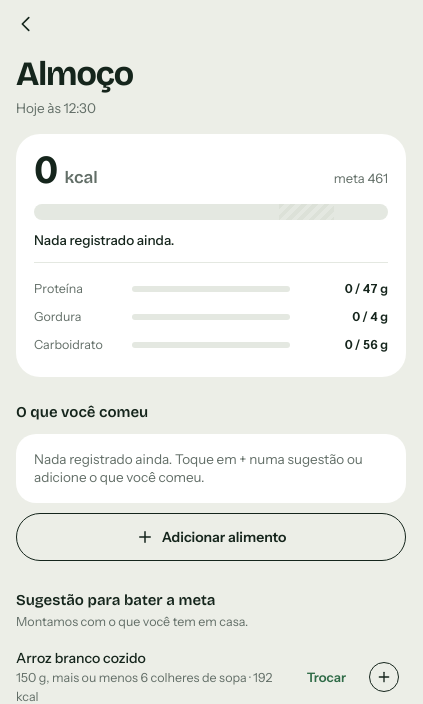
Test case: Detalhe da refeição (S13) › "+" registra na hora, vira ✓ e a régua sobe (CA31, Review Focus 1)
Click the button named "Registrar Arroz branco cozido, 150 g, mais ou menos 6 colheres de sopa". click: (384, 677)
box: [362,655,406,699]
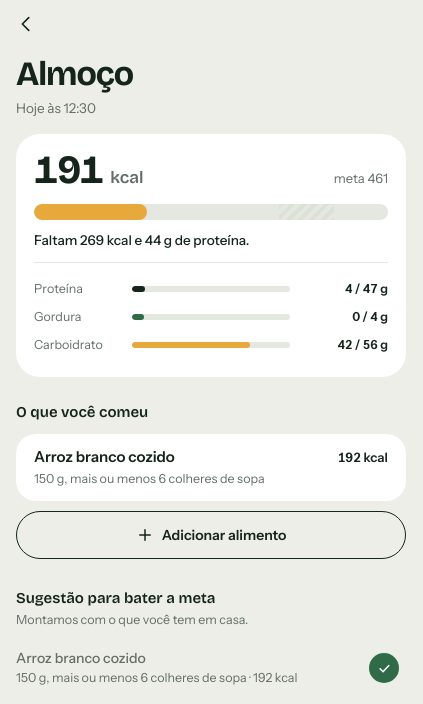
Result: the button named "Arroz branco cozido já registrado" is disabled at [362,646,406,690]
